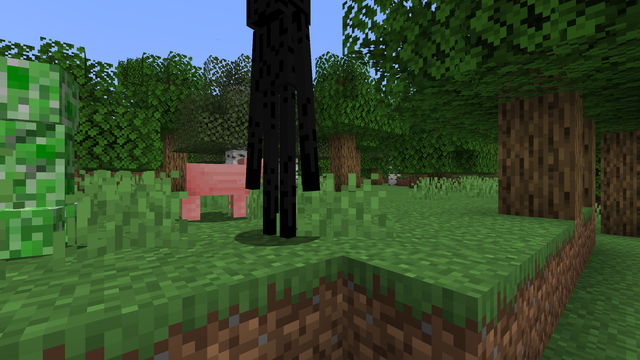cochons: (183, 160, 233, 221)
creepers: (2, 49, 79, 254)
endermens: (242, 2, 316, 244)
